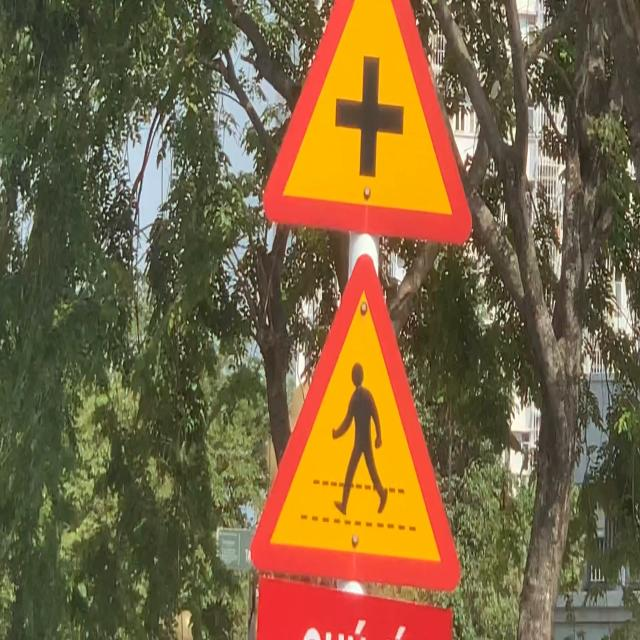Duong giao nhau: (257, 0, 484, 257)
Nguoi di bo cat ngang: (242, 246, 468, 599)
